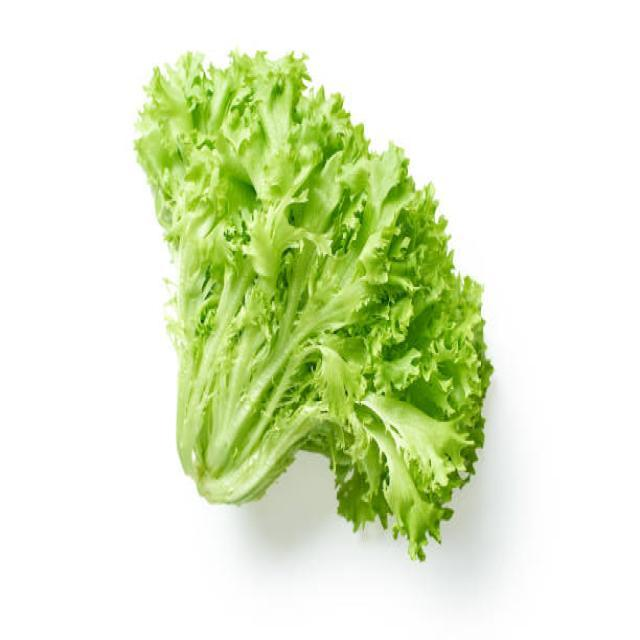Lettuce-Ready-to-Harvest: (137, 45, 495, 574)
